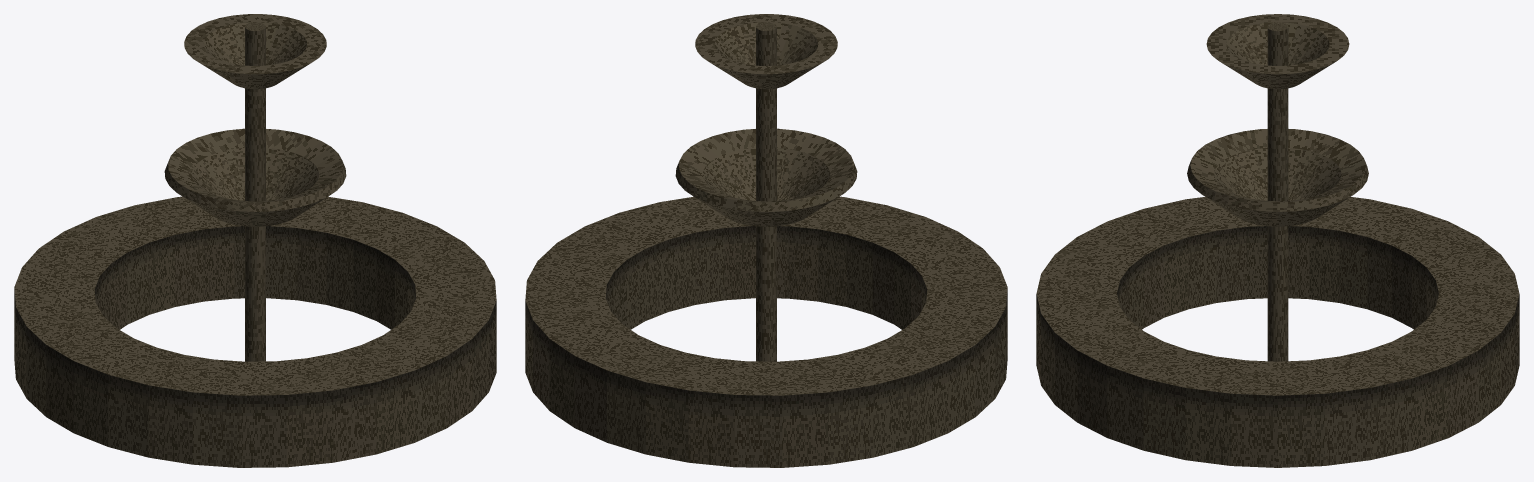
The model's file is fountain.glb.
3 views of the same model, side by side, from view 1: azimuth 30°, elevation 25°; view 2: azimuth 150°, elevation 25°; view 3: azimuth 270°, elevation 25° (orthographic).
Parts seen in each view (by area): view 1: Cylinder, Cylinder.002, Cylinder.003, Cylinder.001; view 2: Cylinder, Cylinder.002, Cylinder.003, Cylinder.001; view 3: Cylinder, Cylinder.002, Cylinder.003, Cylinder.001.
Boxes of the visible parts, x1,y1,x2,y2 form: Cylinder: [14, 196, 496, 467]; Cylinder.002: [164, 128, 346, 226]; Cylinder.003: [184, 14, 326, 89]; Cylinder.001: [245, 22, 265, 361]; Cylinder: [525, 196, 1007, 467]; Cylinder.002: [675, 128, 857, 226]; Cylinder.003: [695, 14, 837, 89]; Cylinder.001: [756, 22, 776, 361]; Cylinder: [1036, 197, 1519, 467]; Cylinder.002: [1187, 129, 1368, 226]; Cylinder.003: [1206, 14, 1349, 89]; Cylinder.001: [1267, 22, 1288, 361].
Bounding box in the file's own units: 0.9563 × 0.7409 × 0.9563.
4 materials, 4 textured.
